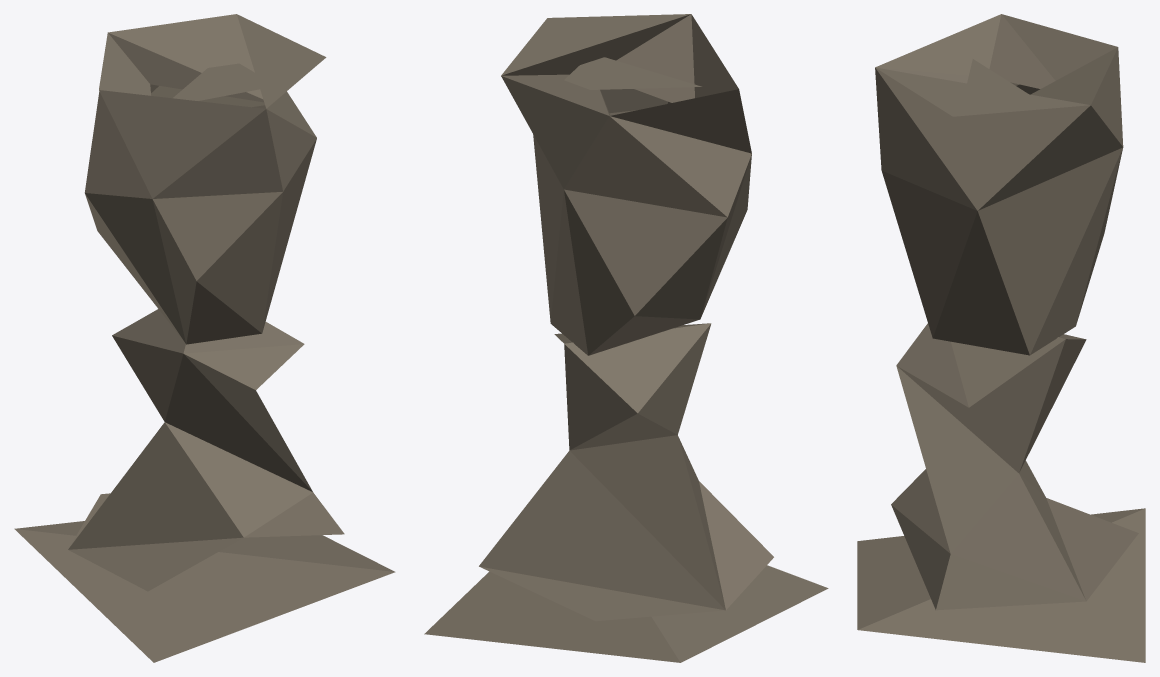
Rendered from bay-planter.lod2.glb.
The picture shows the model from 3 angles, left to right: view 1: azimuth 30°, elevation 25°; view 2: azimuth 150°, elevation 25°; view 3: azimuth 270°, elevation 25°; orthographic projection. The views are drawn at different scales.
Visible parts, largest first — view 1: vase_Flower_Pot__vase Flower Pot _0; view 2: vase_Flower_Pot__vase Flower Pot _0; view 3: vase_Flower_Pot__vase Flower Pot _0.
Boxes of the visible parts, left/top/right/bottom form: vase_Flower_Pot__vase Flower Pot _0: left=14, top=14, right=395, bottom=662; vase_Flower_Pot__vase Flower Pot _0: left=424, top=14, right=828, bottom=662; vase_Flower_Pot__vase Flower Pot _0: left=857, top=14, right=1145, bottom=662.
Bounding box in the file's own units: 0.4711 × 0.9642 × 0.4711.
